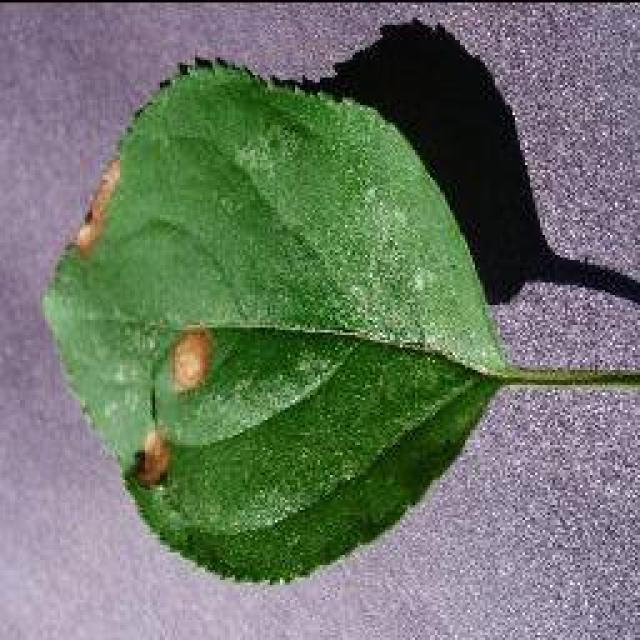Black_rot: (38, 23, 638, 585)
